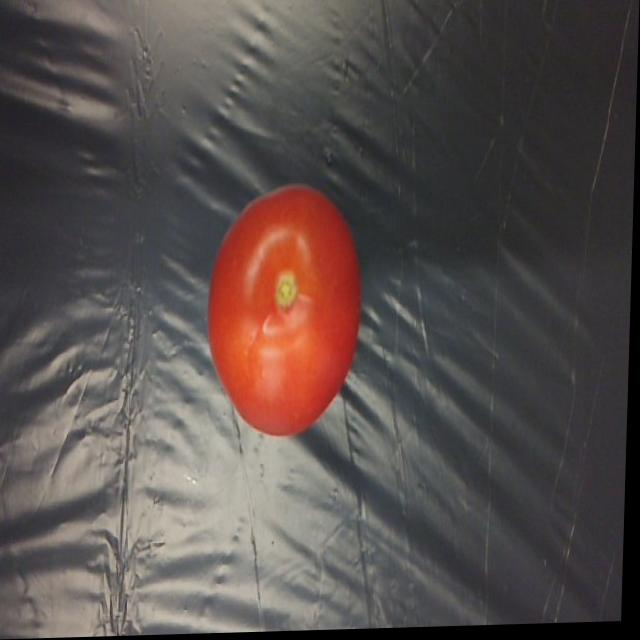kirmizi: (194, 181, 377, 458)
